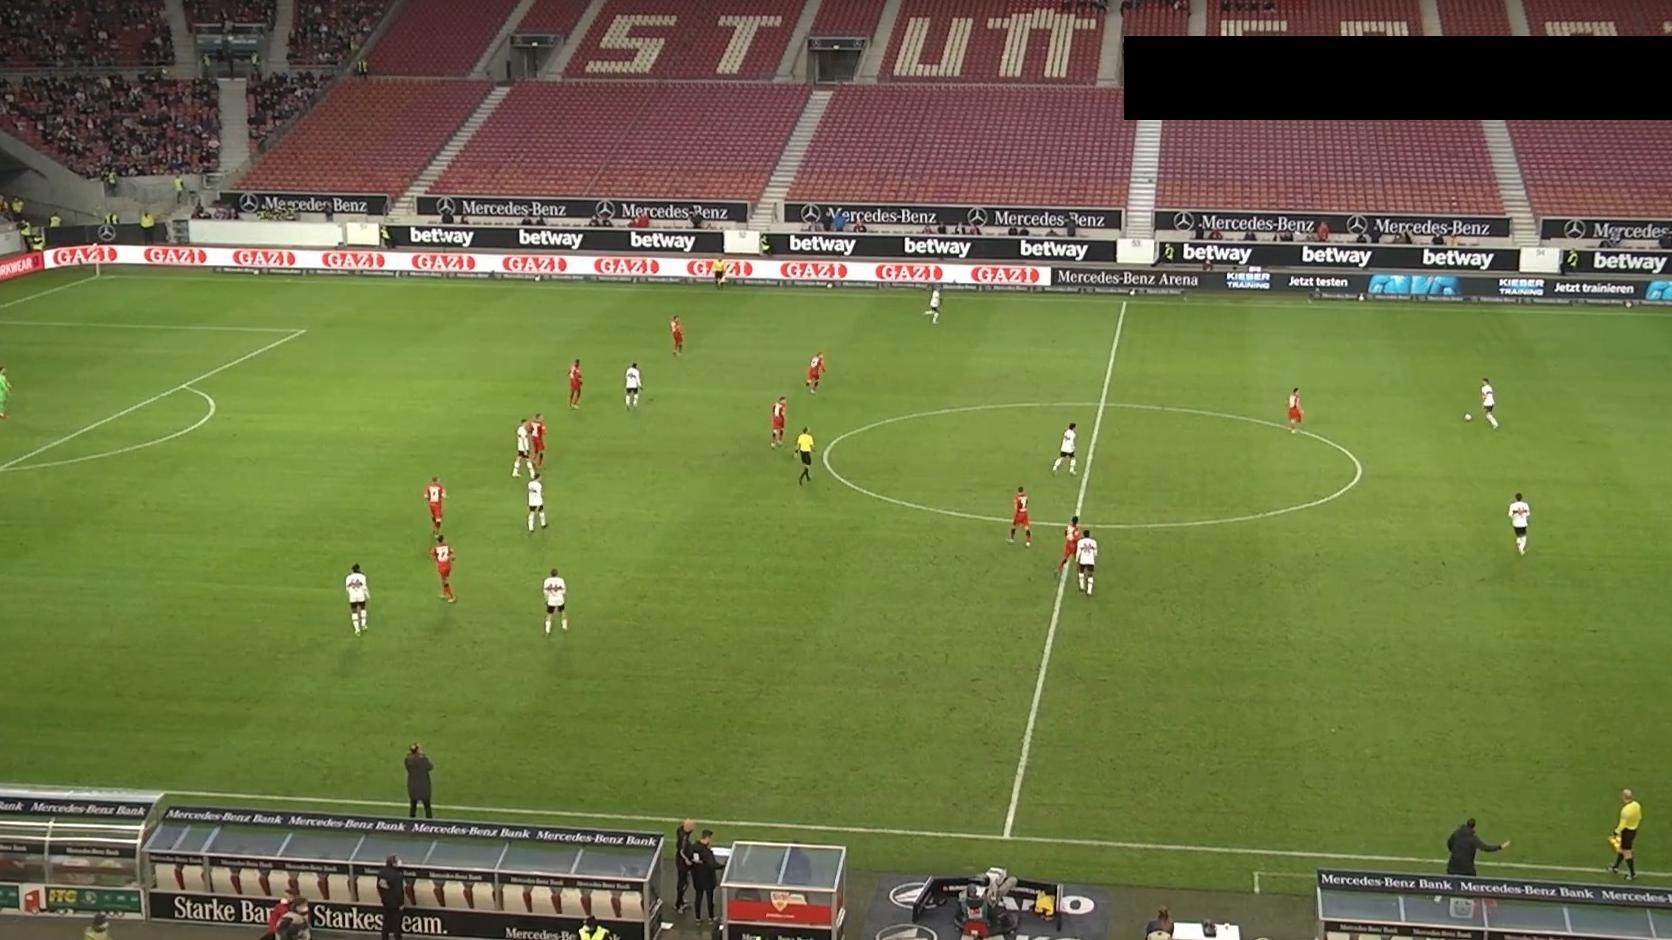ball: (1462, 411, 1473, 423)
